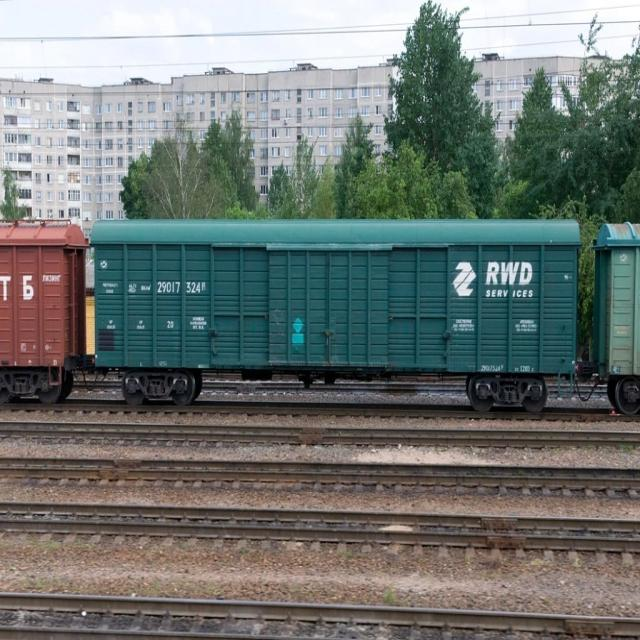boxcar: (90, 196, 587, 414), (0, 202, 88, 406), (590, 208, 640, 428)
